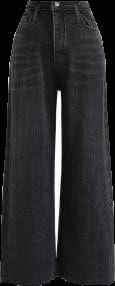Hemline: (56, 274, 114, 285), (0, 276, 57, 285)
Pantleg: (51, 1, 113, 284), (1, 0, 57, 285)
Waistline: (24, 8, 92, 13), (28, 0, 88, 4)
